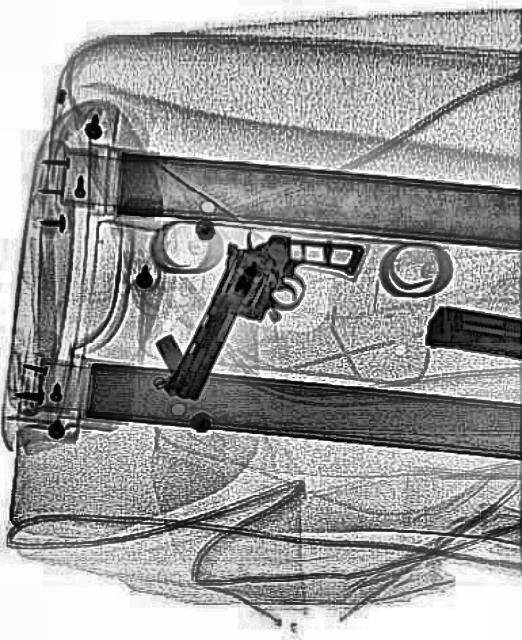Gun: (152, 178, 366, 452)
